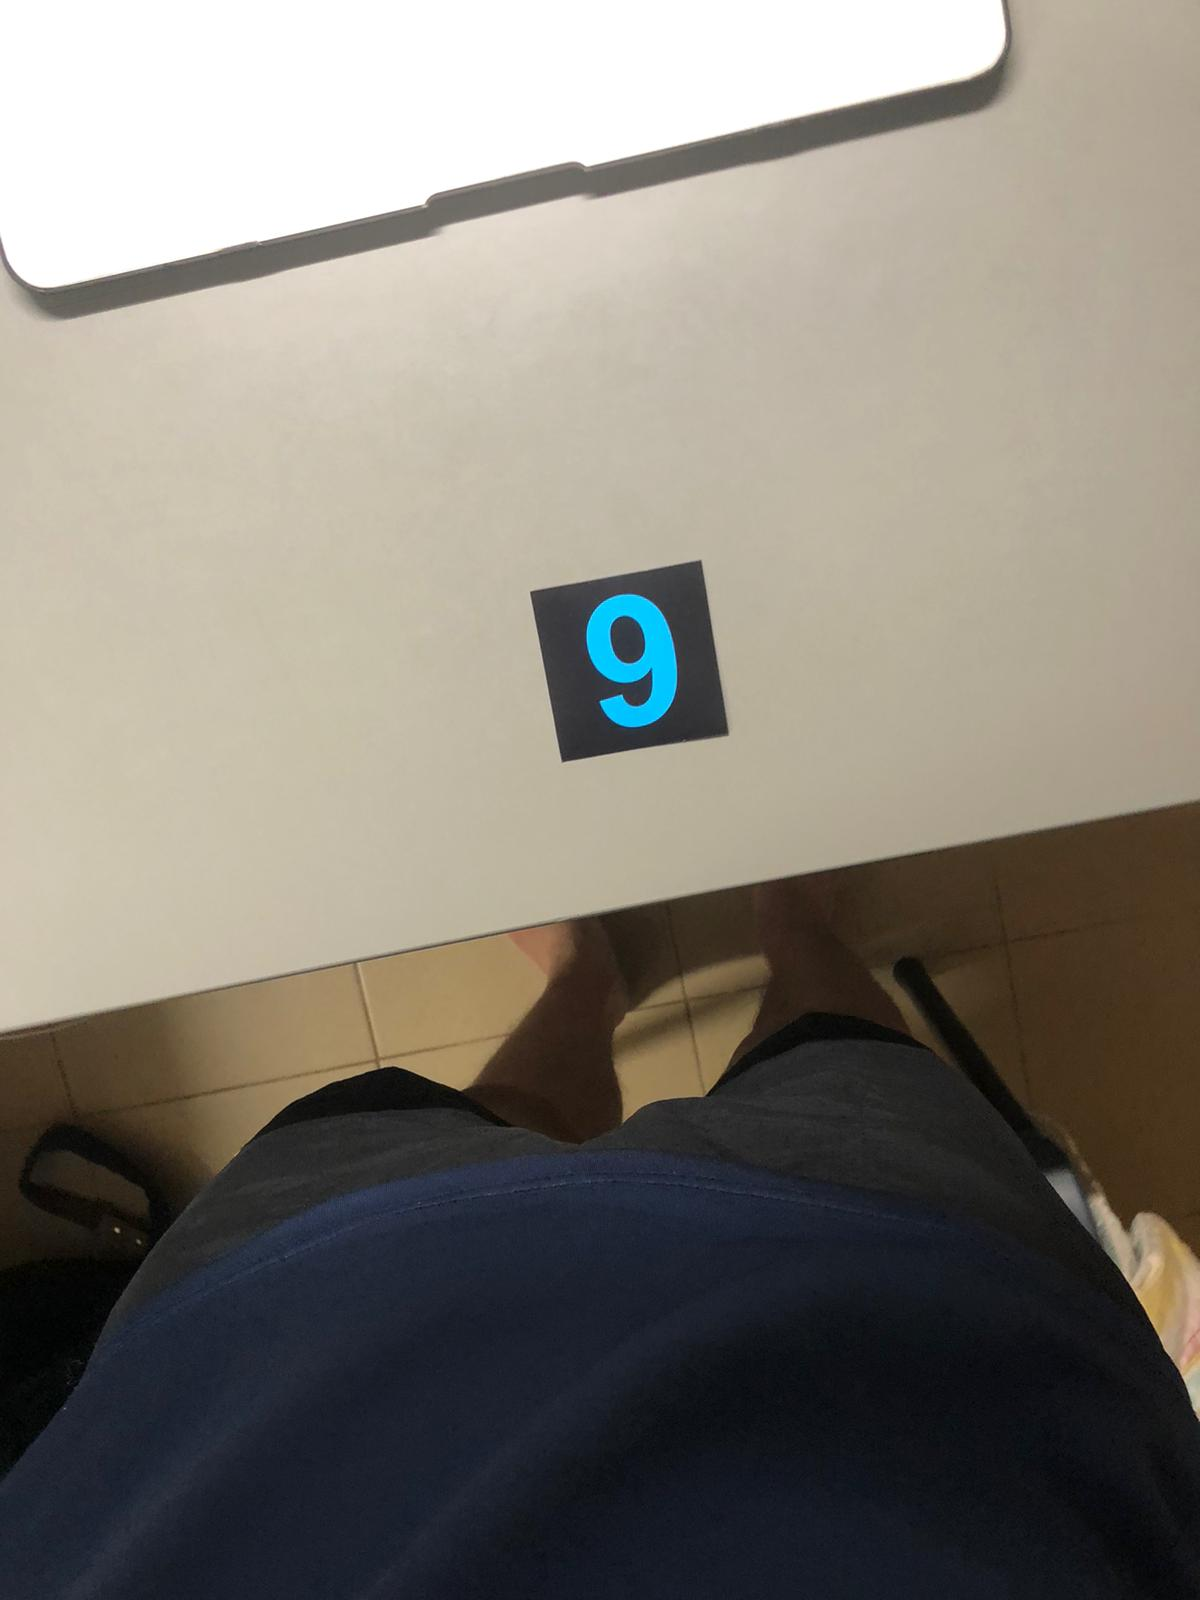Number 9: (534, 588, 722, 750)
